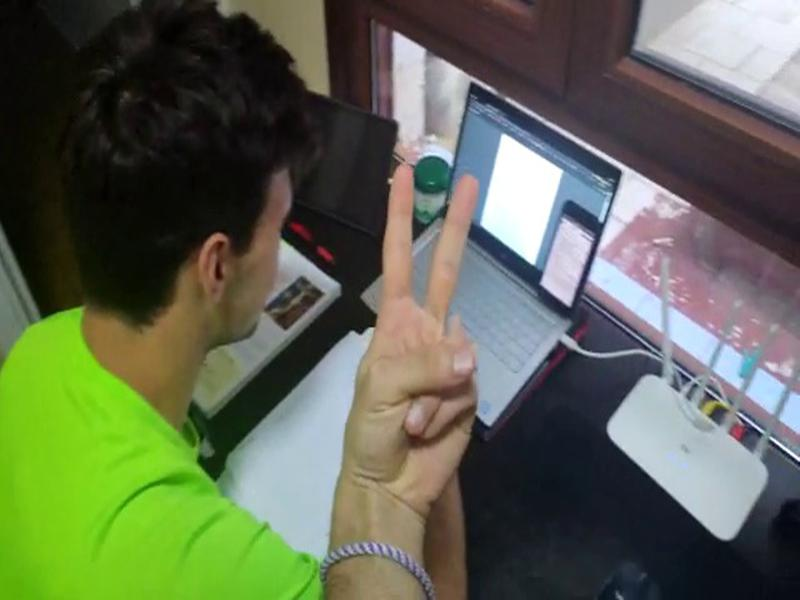Peace: (344, 151, 500, 523)
